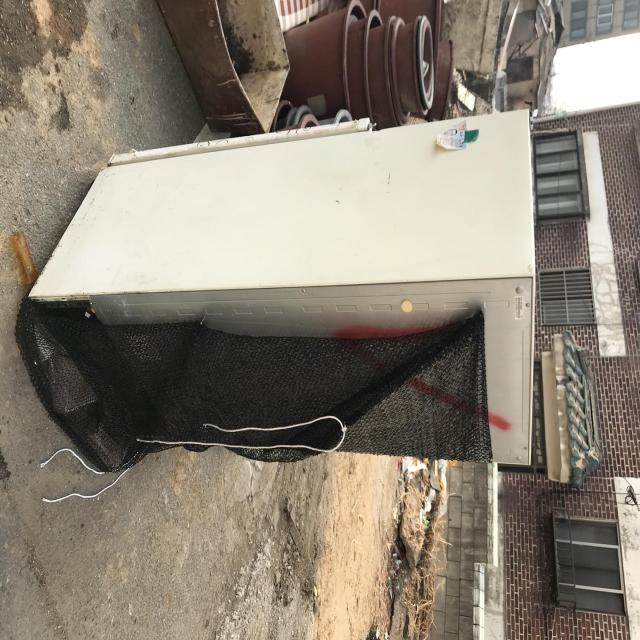refrigerator: (104, 100, 469, 617)
